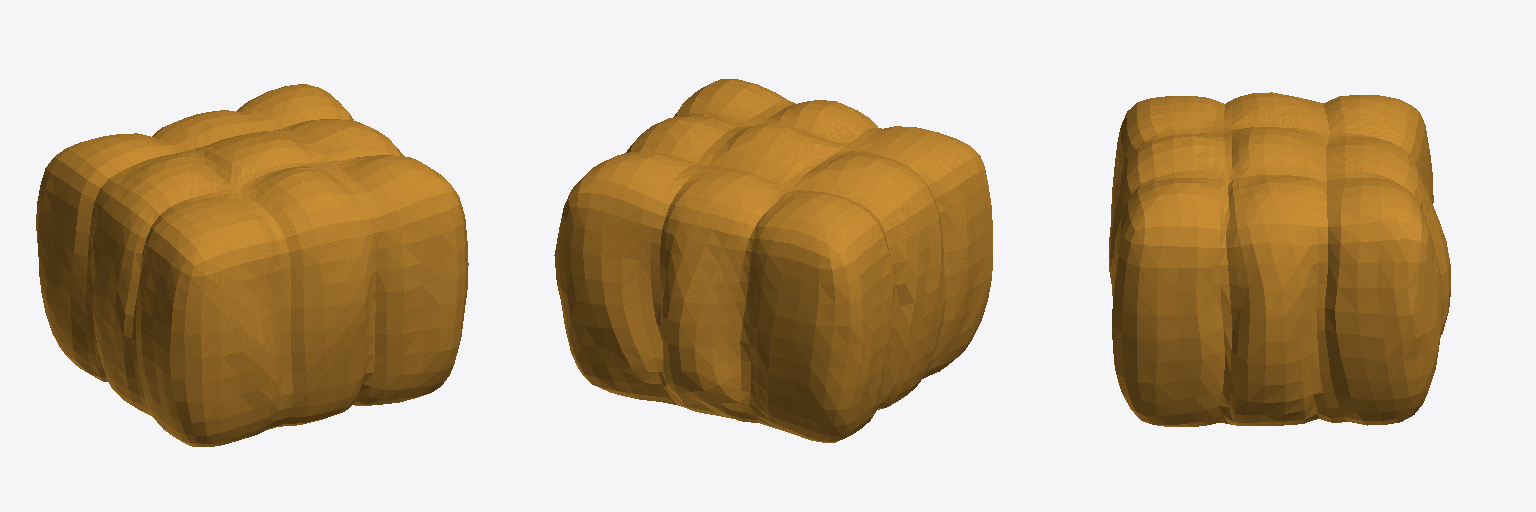
The picture shows the model from 3 angles: view 1: azimuth 30°, elevation 25°; view 2: azimuth 150°, elevation 25°; view 3: azimuth 270°, elevation 25°; orthographic projection.
Visible parts, largest first — view 1: Sketchfab_Model; view 2: Sketchfab_Model; view 3: Sketchfab_Model.
Part boxes in pixels (x1,y1,x2,y2): Sketchfab_Model: (36,84,468,446); Sketchfab_Model: (554,79,992,442); Sketchfab_Model: (1109,92,1450,426).
Size of the model in its own units: 21.23 by 15.36 by 20.
Materials: 1 (1 with a texture image).